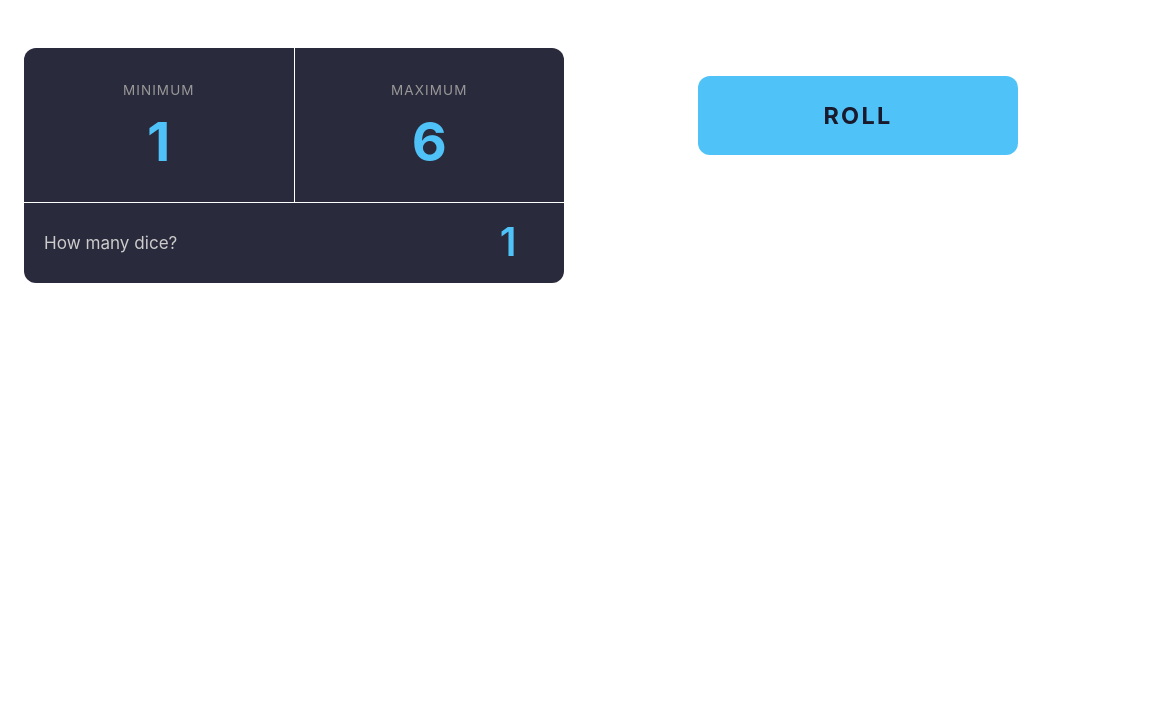
Scenario: DiceRoll history › records every value and the total for several dice
The image size is (1152, 720).
Step 1. Replace the text in the number field with id "numDice" with "3" → (508, 243), box [472,215,544,271]
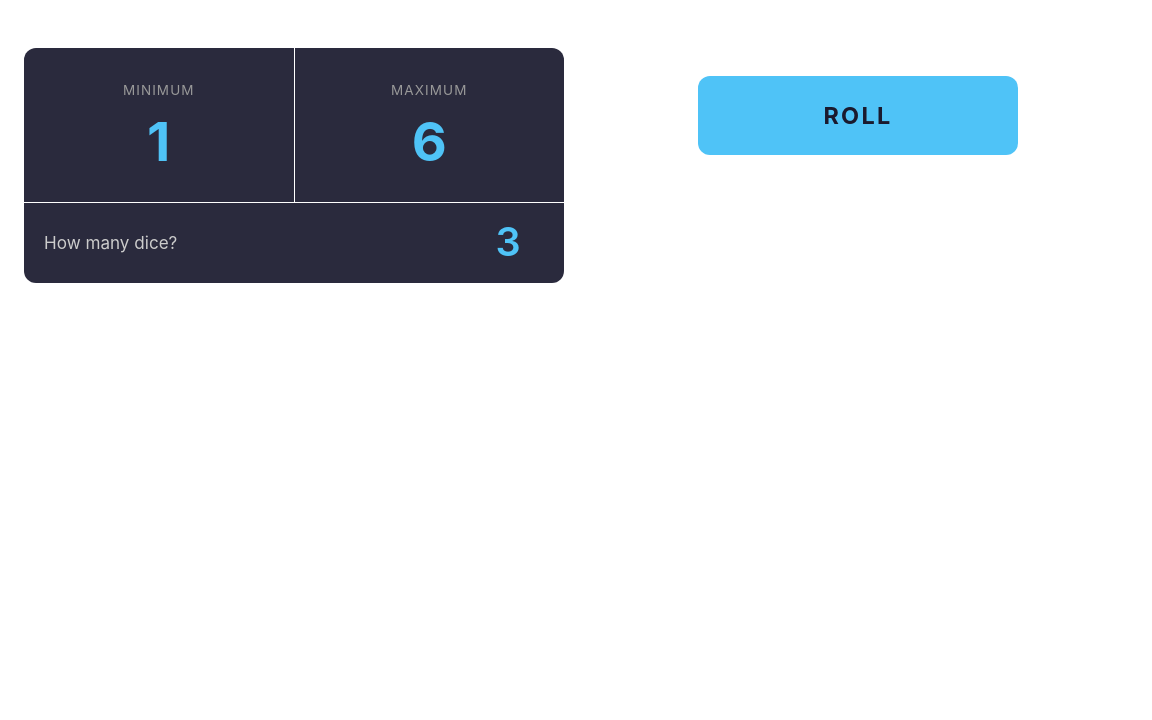
Step 2. Click the button "ROLL" → (858, 116), box [698,76,1018,156]
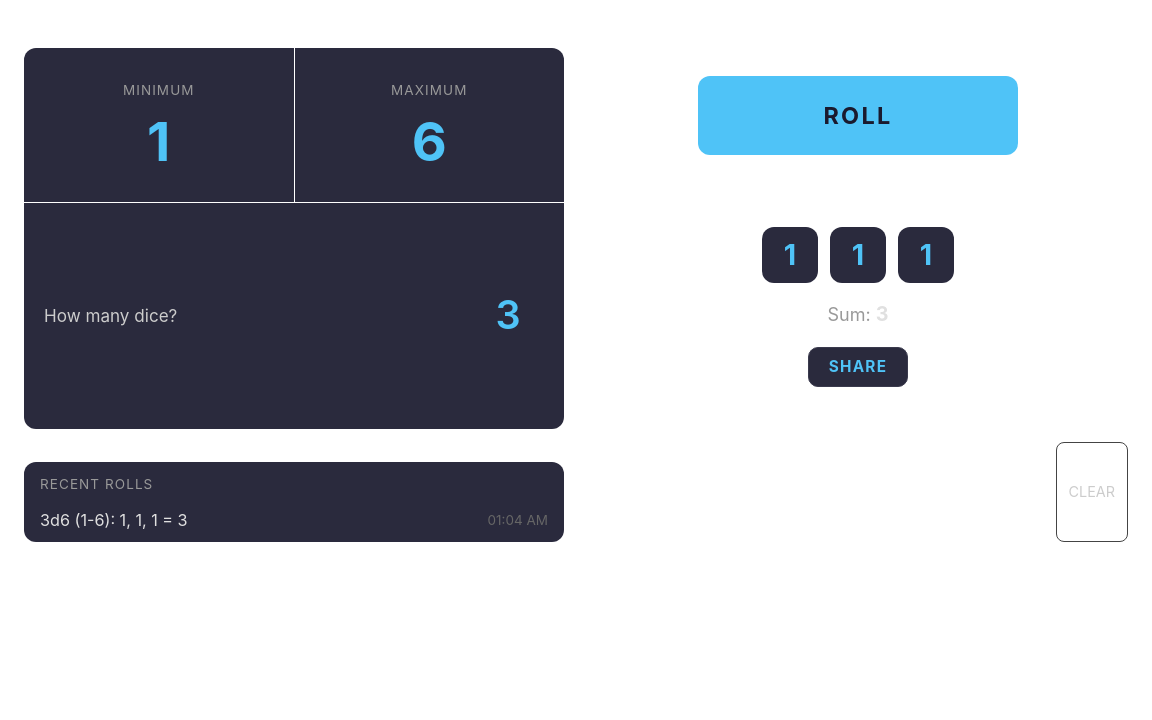
Now the text "3d6 (1-6): 1, 1, 1 = 3" is shown, box [40,508,188,534]
